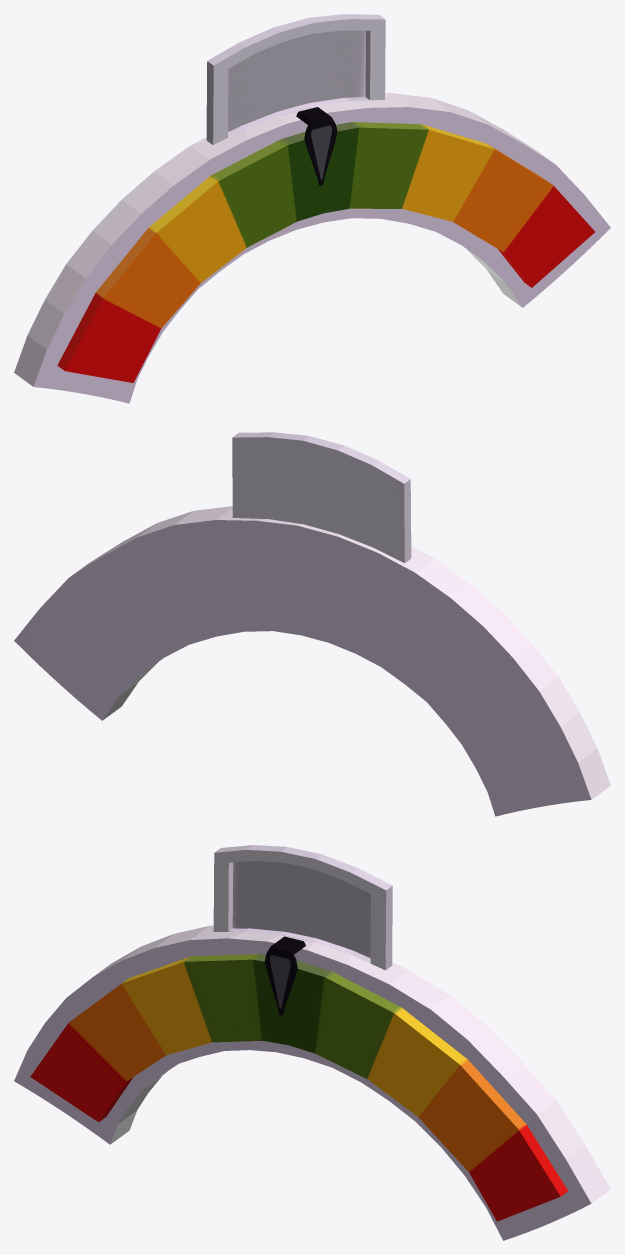
File: power bar7.fbx
The picture shows the model from 3 angles, top to bottom: view 1: azimuth 30°, elevation 25°; view 2: azimuth 150°, elevation 25°; view 3: azimuth 330°, elevation 25°; orthographic projection.
Visible parts, largest first — view 1: Cube.001, Cube, Plane; view 2: Cube; view 3: Cube.001, Cube, Plane.
Boxes of the visible parts, x1,y1,x2,y2 form: Cube.001: [57, 122, 594, 382]; Cube: [14, 14, 610, 403]; Plane: [296, 107, 337, 185]; Cube: [14, 432, 610, 816]; Cube.001: [30, 954, 567, 1221]; Cube: [14, 845, 610, 1240]; Plane: [264, 936, 305, 1015].
Bounding box in the file's own units: 524 × 283 × 47.77.
1 material, 1 textured.
